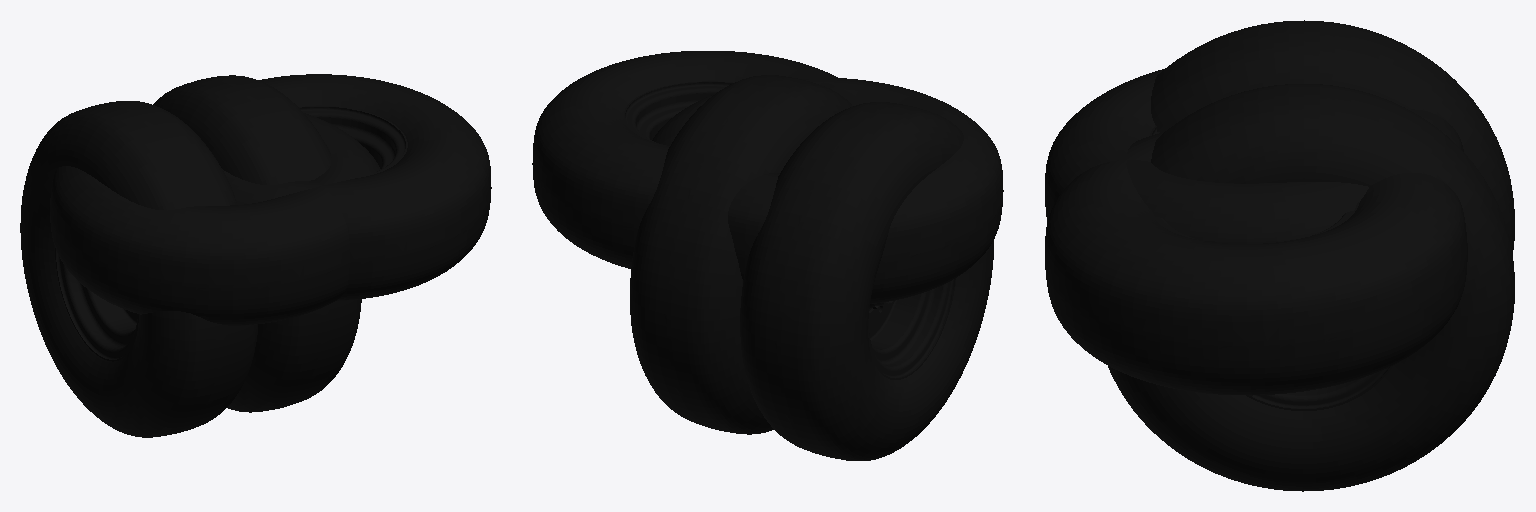
URDF robot description (corn_harvester):
<?xml version="1.0" encoding="utf-8"?>
<robot
  name="corn_harvester">
  <link name="base_footprint">
    <visual>
      <geometry>
          <sphere radius="0.001"/>
      </geometry>
    </visual>
  </link>
  <joint name="base_mount" type="fixed">
    <parent link="base_footprint"/>
    <child link="base_link"/>
    <origin 
    xyz="0.0 0.0 0.06"
    rpy="0 0 0"/>
  </joint>
  <link
    name="base_link">
    <inertial>
      <origin
        xyz="0.08259 -0.0039876 0.1264"
        rpy="0 0 0" />
      <mass
        value="83.037" />
      <inertia
        ixx="2.4431"
        ixy="-0.002645"
        ixz="0.19502"
        iyy="6.26"
        iyz="-0.026839"
        izz="6.9939" />
    </inertial>
    <visual>
      <origin
        xyz="0 0 0"
        rpy="0 0 0" />
      <geometry>
        <mesh
          filename="package://sim01_urdf/meshes/base_link.STL" />
      </geometry>
      <material
        name="">
        <color
          rgba="0.2 0.2 0.2 1" />
      </material>
    </visual>
    <collision>
      <origin
        xyz="0 0 0"
        rpy="0 0 0" />
      <geometry>
        <mesh
          filename="package://sim01_urdf/meshes/base_link.STL" />
      </geometry>
    </collision>
  </link>
  <link
    name="left_front_wheel_link0">
    <inertial>
      <origin
        xyz="2.5107E-06 0.18858 -2.67E-09"
        rpy="0 0 0" />
      <mass
        value="0.98793" />
      <inertia
        ixx="0.0023448"
        ixy="1.334E-08"
        ixz="1.4876E-14"
        iyy="0.0038903"
        iyz="8.792E-15"
        izz="0.0023448" />
    </inertial>
    <visual>
      <origin
        xyz="0 0 0"
        rpy="0 0 0" />
      <geometry>
        <mesh
          filename="package://sim01_urdf/meshes/left_front_wheel_link0.STL" />
      </geometry>
      <material
        name="">
        <color
          rgba="0.1 0.1 0.1 1" />
      </material>
    </visual>
    <collision>
      <origin
        xyz="0 0 0"
        rpy="0 0 0" />
      <geometry>
        <mesh
          filename="package://sim01_urdf/meshes/left_front_wheel_link0.STL" />
      </geometry>
    </collision>
  </link>
  <joint
    name="left_front_wheel_joint0"
    type="continuous">
    <origin
      xyz="0.3 0.088958 0.032961"
      rpy="0.033093 0 0" />
    <parent
      link="base_link" />
    <child
      link="left_front_wheel_link0" />
    <axis
      xyz="0 1 0" />
  </joint>
  <link
    name="right_front_wheel_link1">
    <inertial>
      <origin
        xyz="1.0617E-06 -0.18858 2.2752E-06"
        rpy="0 0 0" />
      <mass
        value="0.98793" />
      <inertia
        ixx="0.0023448"
        ixy="-5.6543E-09"
        ixz="3.3674E-14"
        iyy="0.0038903"
        iyz="-1.2083E-08"
        izz="0.0023448" />
    </inertial>
    <visual>
      <origin
        xyz="0 0 0"
        rpy="0 0 0" />
      <geometry>
        <mesh
          filename="package://sim01_urdf/meshes/right_front_wheel_link1.STL" />
      </geometry>
      <material
        name="">
        <color
          rgba="0.1 0.1 0.1 1" />
      </material>
    </visual>
    <collision>
      <origin
        xyz="0 0 0"
        rpy="0 0 0" />
      <geometry>
        <mesh
          filename="package://sim01_urdf/meshes/right_front_wheel_link1.STL" />
      </geometry>
    </collision>
  </link>
  <joint
    name="right_front_wheel_joint1"
    type="continuous">
    <origin
      xyz="0.3 -0.090943 0.027006"
      rpy="1.5708 1.5377 1.5708" />
    <parent
      link="base_link" />
    <child
      link="right_front_wheel_link1" />
    <axis
      xyz="0 1 0" />
  </joint>
  <link
    name="right_rear_wheel_link2">
    <inertial>
      <origin
        xyz="1.0617E-06 -0.18858 2.2752E-06"
        rpy="0 0 0" />
      <mass
        value="0.98793" />
      <inertia
        ixx="0.0023448"
        ixy="-5.6543E-09"
        ixz="3.3674E-14"
        iyy="0.0038903"
        iyz="-1.2083E-08"
        izz="0.0023448" />
    </inertial>
    <visual>
      <origin
        xyz="0 0 0"
        rpy="0 0 0" />
      <geometry>
        <mesh
          filename="package://sim01_urdf/meshes/right_rear_wheel_link2.STL" />
      </geometry>
      <material
        name="">
        <color
          rgba="0.1 0.1 0.1 1" />
      </material>
    </visual>
    <collision>
      <origin
        xyz="0 0 0"
        rpy="0 0 0" />
      <geometry>
        <mesh
          filename="package://sim01_urdf/meshes/right_rear_wheel_link2.STL" />
      </geometry>
    </collision>
  </link>
  <joint
    name="right_rear_wheel_joint2"
    type="continuous">
    <origin
      xyz="-0.3 -0.090943 0.027006"
      rpy="1.5708 1.5377 1.5708" />
    <parent
      link="base_link" />
    <child
      link="right_rear_wheel_link2" />
    <axis
      xyz="0 1 0" />
  </joint>
  <link
    name="left_rear_wheel_link3">
    <inertial>
      <origin
        xyz="2.5107E-06 0.18858 -2.67E-09"
        rpy="0 0 0" />
      <mass
        value="0.98793" />
      <inertia
        ixx="0.0023448"
        ixy="1.334E-08"
        ixz="1.4876E-14"
        iyy="0.0038903"
        iyz="8.792E-15"
        izz="0.0023448" />
    </inertial>
    <visual>
      <origin
        xyz="0 0 0"
        rpy="0 0 0" />
      <geometry>
        <mesh
          filename="package://sim01_urdf/meshes/left_rear_wheel_link3.STL" />
      </geometry>
      <material
        name="">
        <color
          rgba="0.1 0.1 0.1 1" />
      </material>
    </visual>
    <collision>
      <origin
        xyz="0 0 0"
        rpy="0 0 0" />
      <geometry>
        <mesh
          filename="package://sim01_urdf/meshes/left_rear_wheel_link3.STL" />
      </geometry>
    </collision>
  </link>
  <joint
    name="left_rear_wheel_joint3"
    type="continuous">
    <origin
      xyz="-0.3 0.088958 0.032961"
      rpy="0.033093 0 0" />
    <parent
      link="base_link" />
    <child
      link="left_rear_wheel_link3" />
    <axis
      xyz="0 1 0" />
  </joint>
  <link
    name="laser_link">
    <inertial>
      <origin
        xyz="-0.00018031 -2.0389E-07 -0.0065305"
        rpy="0 0 0" />
      <mass
        value="0.15944" />
      <inertia
        ixx="4.828E-05"
        ixy="1.2914E-10"
        ixz="3.055E-07"
        iyy="5.1563E-05"
        iyz="1.2922E-10"
        izz="8.1461E-05" />
    </inertial>
    <visual>
      <origin
        xyz="0 0 0"
        rpy="0 0 0" />
      <geometry>
        <mesh
          filename="package://sim01_urdf/meshes/laser_link.STL" />
      </geometry>
      <material
        name="">
        <color
          rgba="0 0 1 0.96" />
      </material>
    </visual>
    <collision>
      <origin
        xyz="0 0 0"
        rpy="0 0 0" />
      <geometry>
        <mesh
          filename="package://sim01_urdf/meshes/laser_link.STL" />
      </geometry>
    </collision>
  </link>
  <joint
    name="laser_mount"
    type="fixed">
    <origin
      xyz="0.25 -0.014228 0.42976"
      rpy="0.033093 0 0" />
    <parent
      link="base_link" />
    <child
      link="laser_link" />
    <axis
      xyz="0 0 0" />
  </joint>
</robot>

--- What the picture shows (computed from the rendered views, not written in the file) ---
Views: 3 orthographic renders of the robot side by side, from view 1: azimuth 30°, elevation 25°; view 2: azimuth 150°, elevation 25°; view 3: azimuth 270°, elevation 25°.
Model corn_harvester with 7 links and 6 joints (4 continuous, 2 fixed), rooted at base_footprint, posed every joint at zero.
Visible links, largest first — view 1: left_rear_wheel_link3, right_rear_wheel_link2, right_front_wheel_link1, left_front_wheel_link0; view 2: left_rear_wheel_link3, left_front_wheel_link0, right_front_wheel_link1, right_rear_wheel_link2; view 3: right_front_wheel_link1, left_front_wheel_link0, left_rear_wheel_link3, right_rear_wheel_link2.
Link boxes in pixels (left/top/right/bottom): left_rear_wheel_link3: left=20, top=101, right=257, bottom=437; right_rear_wheel_link2: left=50, top=113, right=380, bottom=325; right_front_wheel_link1: left=222, top=74, right=491, bottom=300; left_front_wheel_link0: left=153, top=75, right=361, bottom=412; left_rear_wheel_link3: left=740, top=102, right=993, bottom=460; left_front_wheel_link0: left=630, top=75, right=852, bottom=434; right_front_wheel_link1: left=532, top=51, right=863, bottom=268; right_rear_wheel_link2: left=652, top=78, right=1003, bottom=303; right_front_wheel_link1: left=1045, top=132, right=1467, bottom=395; left_front_wheel_link0: left=1108, top=84, right=1514, bottom=491; left_rear_wheel_link3: left=1151, top=20, right=1514, bottom=253; right_rear_wheel_link2: left=1045, top=69, right=1463, bottom=243.
Size in the robot's own frame: 2.3 by 1.89 by 1.7 metres.
4 mesh visuals loaded from 6 distinct referenced files (4 binary STL); not drawn: 2 (reference not matched to a file when rendering).
